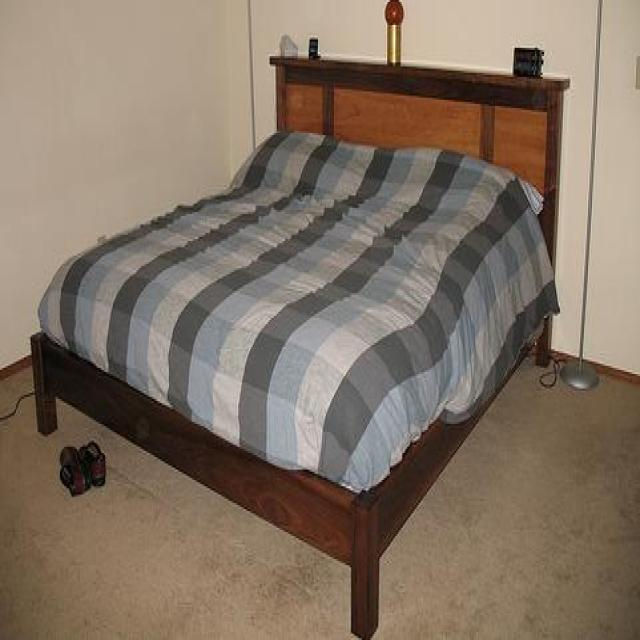bed: (29, 54, 572, 640)
